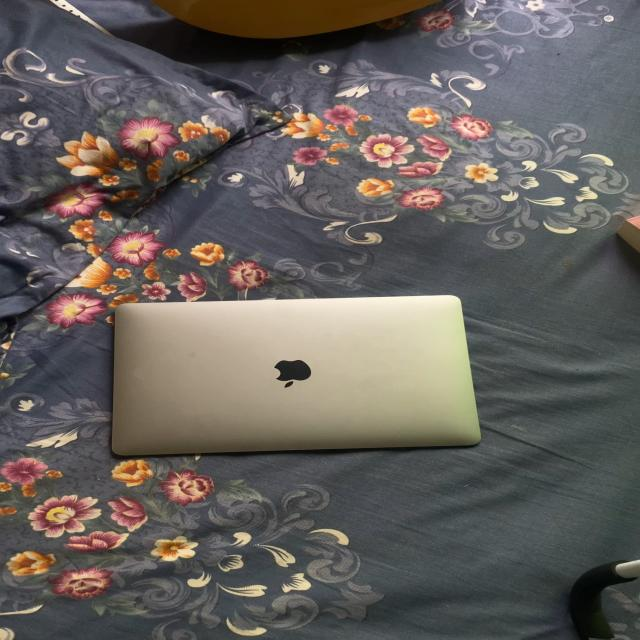laptop: (111, 292, 490, 458)
